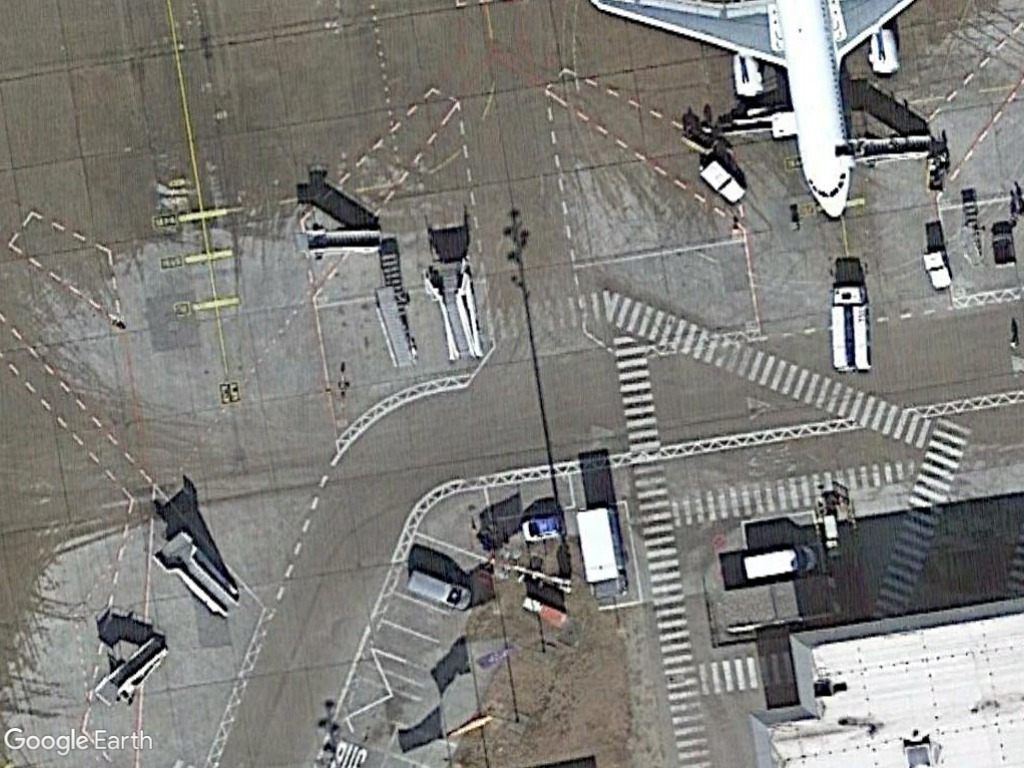other: (828, 280, 876, 375)
stairtruck: (143, 525, 246, 620), (86, 635, 174, 715), (289, 217, 390, 264)
van: (733, 541, 823, 588), (402, 566, 480, 616)
